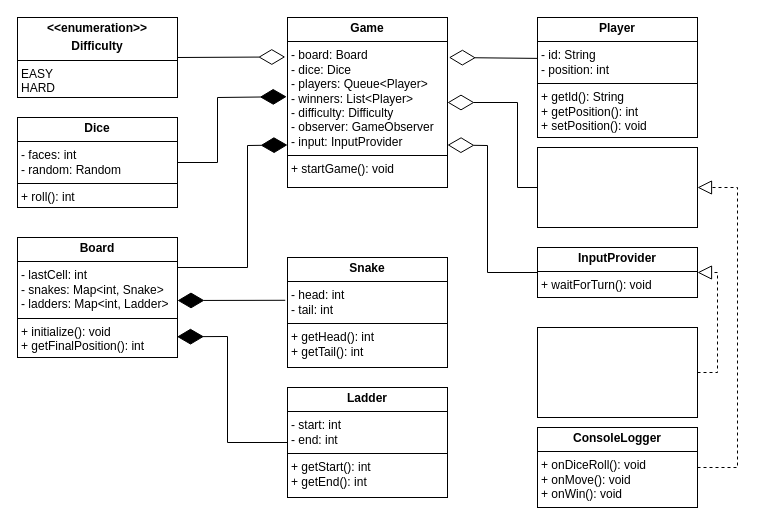
This 769x525 diagram has some shape labels left out. The shapes that lost their labels are listed below. From the top down, each one's centre as x and y in pixels, then its label:
At (x=617, y=187): "GameObserver + onDiceRoll(): void + onMove(): void + onWin(): void".
At (x=617, y=372): "ConsoleInput - scanner: Scanner + waitForTurn(): void".
